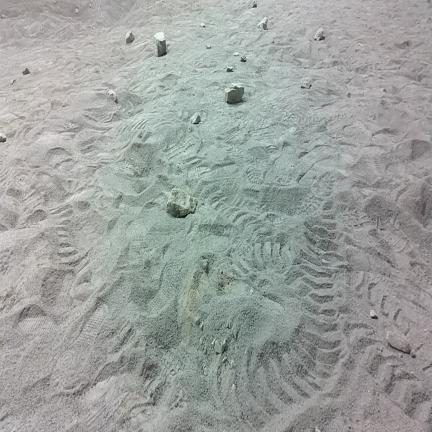Rock: (167, 188, 197, 217), (387, 331, 411, 353), (225, 84, 244, 103), (154, 32, 166, 57), (107, 90, 118, 102), (258, 17, 268, 30), (125, 31, 135, 44), (314, 27, 323, 40), (395, 41, 409, 49), (301, 77, 311, 88), (191, 113, 200, 124), (215, 340, 222, 353), (370, 310, 378, 319), (203, 259, 208, 273), (394, 220, 400, 230), (249, 0, 256, 8), (222, 339, 227, 350), (0, 133, 6, 142), (195, 317, 200, 326), (203, 366, 207, 375), (230, 360, 234, 369), (23, 68, 29, 74), (410, 350, 415, 357), (222, 357, 227, 363), (241, 56, 246, 62), (206, 44, 211, 49), (10, 79, 15, 84), (200, 322, 203, 330), (227, 67, 233, 71), (234, 52, 240, 56), (201, 23, 205, 27), (2, 14, 6, 18), (383, 88, 386, 92), (271, 39, 274, 43), (76, 8, 78, 13)
